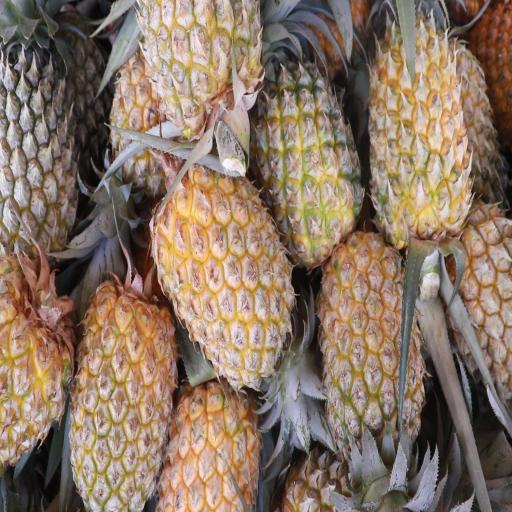------------------------------: (258, 57, 366, 276), (136, 2, 270, 174)
Pineapple - v8 v1: (154, 151, 300, 406), (316, 234, 424, 508), (67, 260, 178, 512), (367, 5, 474, 266), (0, 249, 89, 475), (158, 355, 260, 512), (447, 196, 512, 408)
